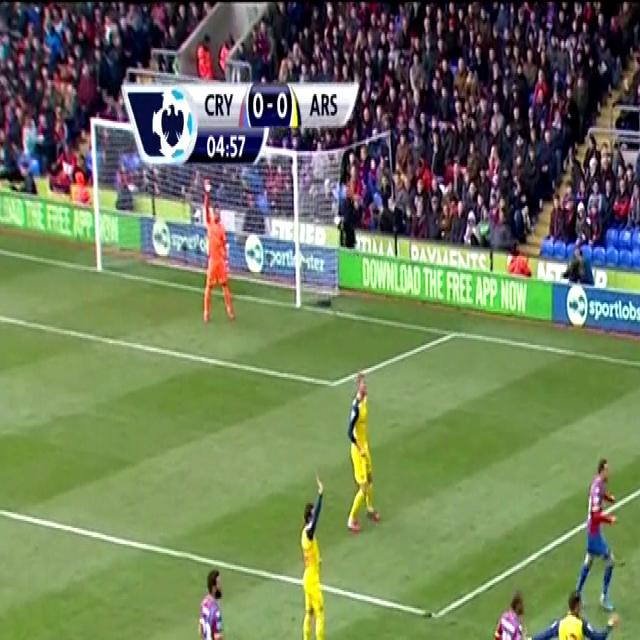goalkeeper: (196, 188, 238, 332)
soccer-player: (569, 452, 622, 623), (292, 460, 338, 640), (341, 358, 381, 537), (186, 560, 241, 640), (482, 581, 537, 640), (552, 583, 598, 640)
